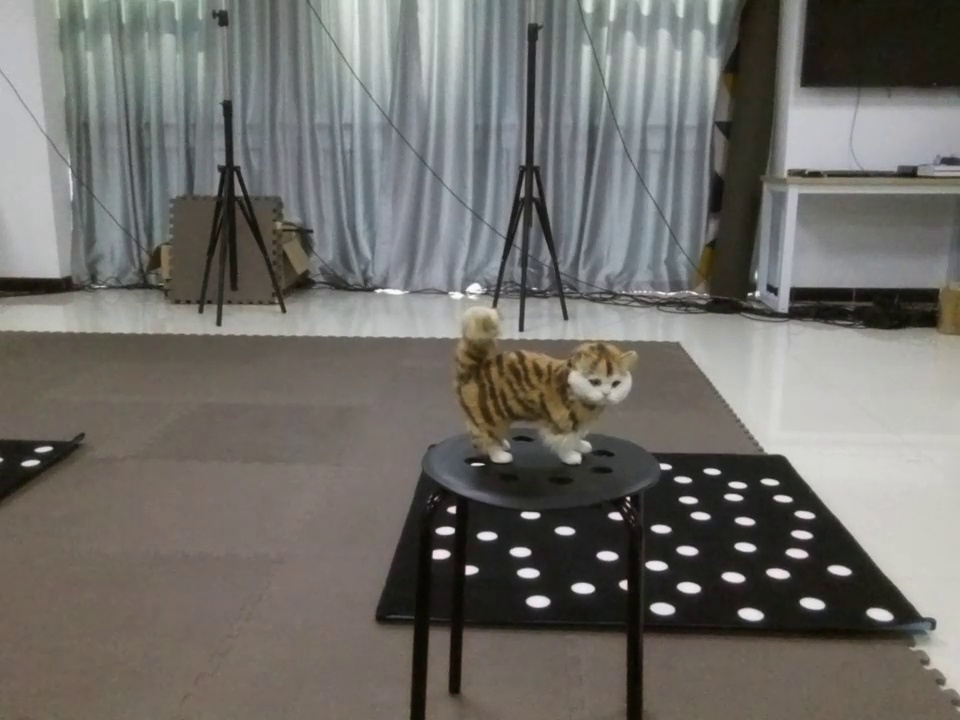cat: (418, 304, 650, 475)
